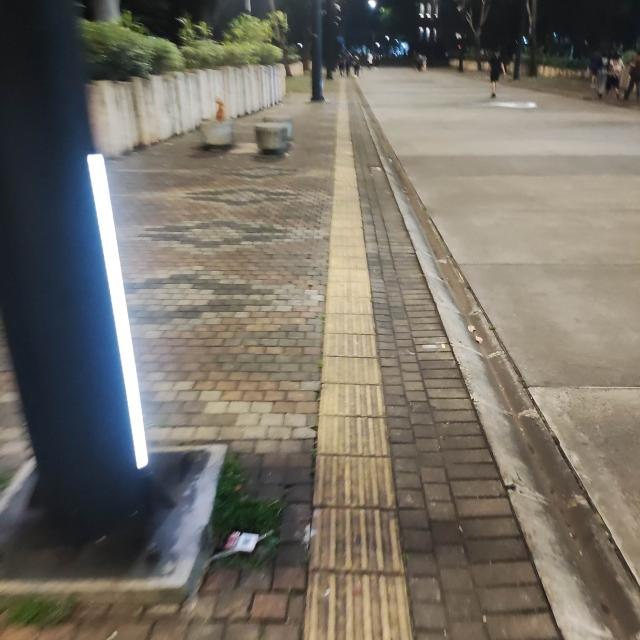lurus: (304, 98, 405, 640)
